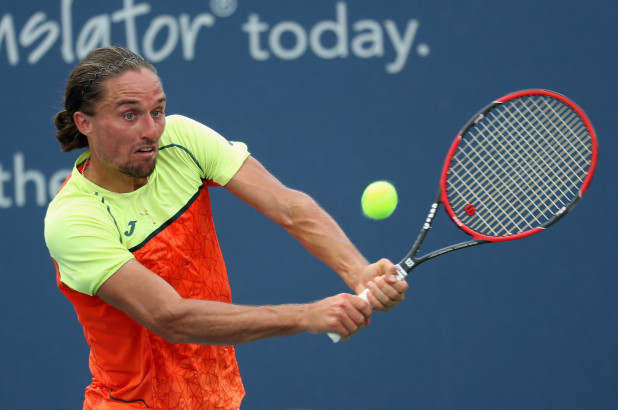tennis ball: (355, 176, 401, 223)
tennis player: (21, 44, 398, 410)
